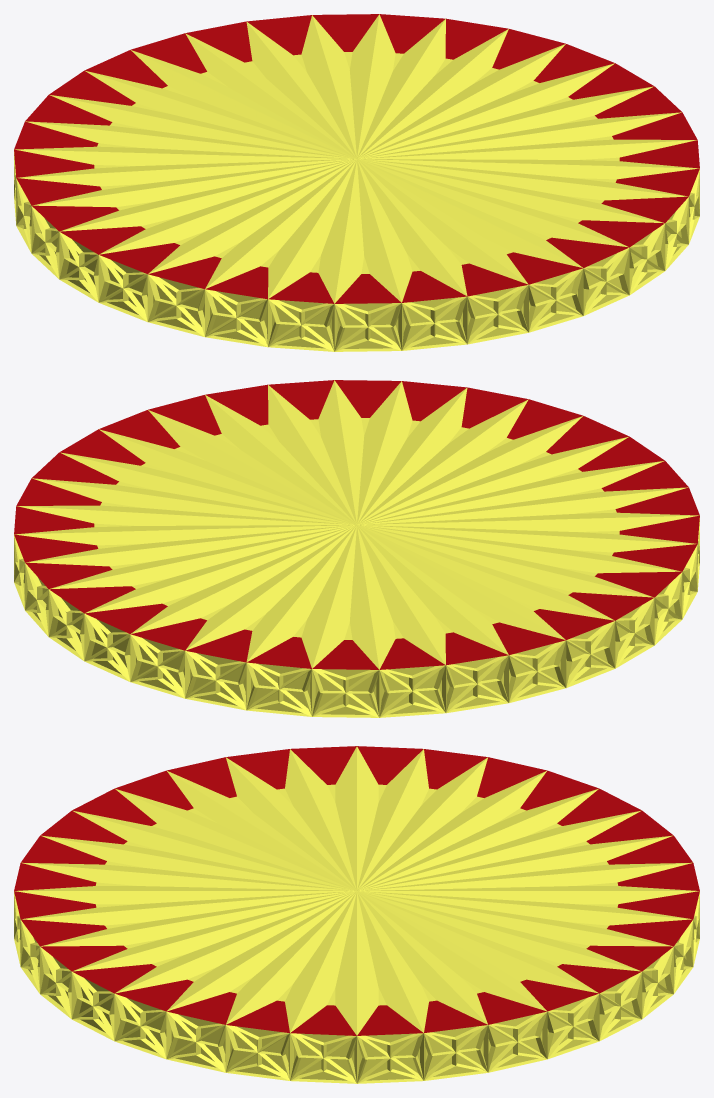
File: Coin.fbx
3 views of the same model, one above another, from view 1: azimuth 30°, elevation 25°; view 2: azimuth 150°, elevation 25°; view 3: azimuth 270°, elevation 25° (orthographic).
Visible parts, largest first — view 1: Cylinder; view 2: Cylinder; view 3: Cylinder.
Boxes of the visible parts, <box> form: Cylinder: <box>14,14,699,351</box>; Cylinder: <box>14,380,699,717</box>; Cylinder: <box>14,746,699,1083</box>.
Size of the model in its own units: 200 by 15.41 by 200.
